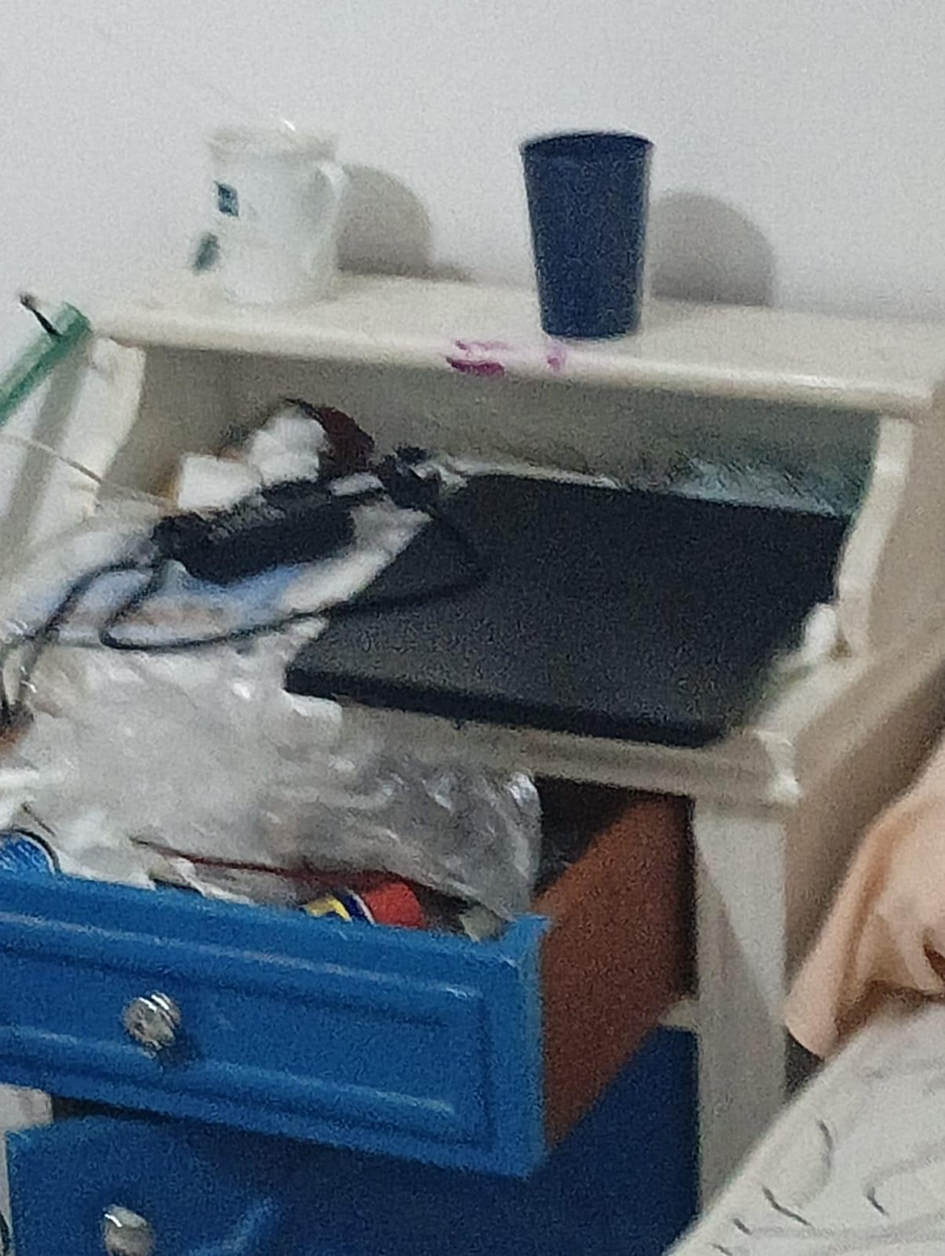cup: (521, 133, 651, 338), (208, 126, 347, 304)
